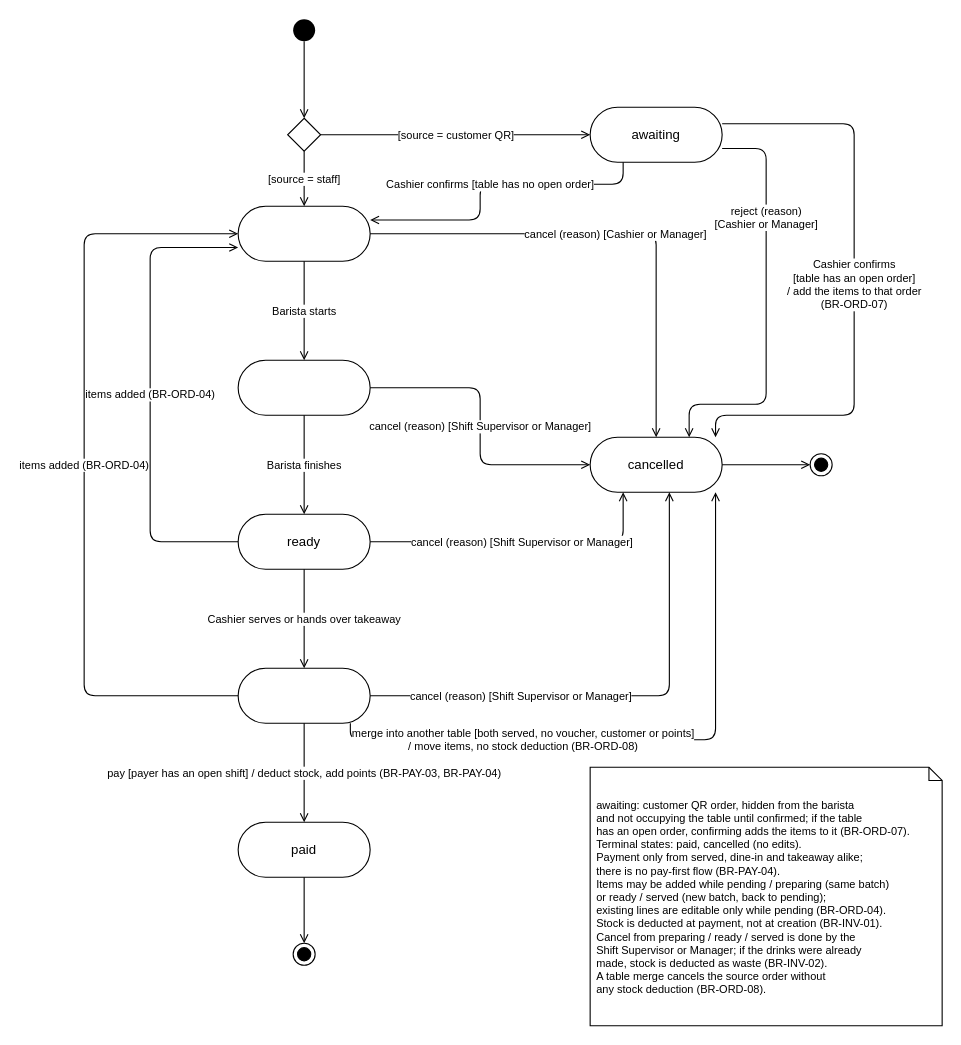
Some shapes in this 961 by 1045 pixel diagram are drawn without their labels. The shapes that lost their labels are listed below. From the top down, each one's box as (x1, y1, x2, y2) in pixels, then its label:
(237, 205, 370, 261): pending
(237, 359, 370, 415): preparing
(237, 667, 370, 723): served
